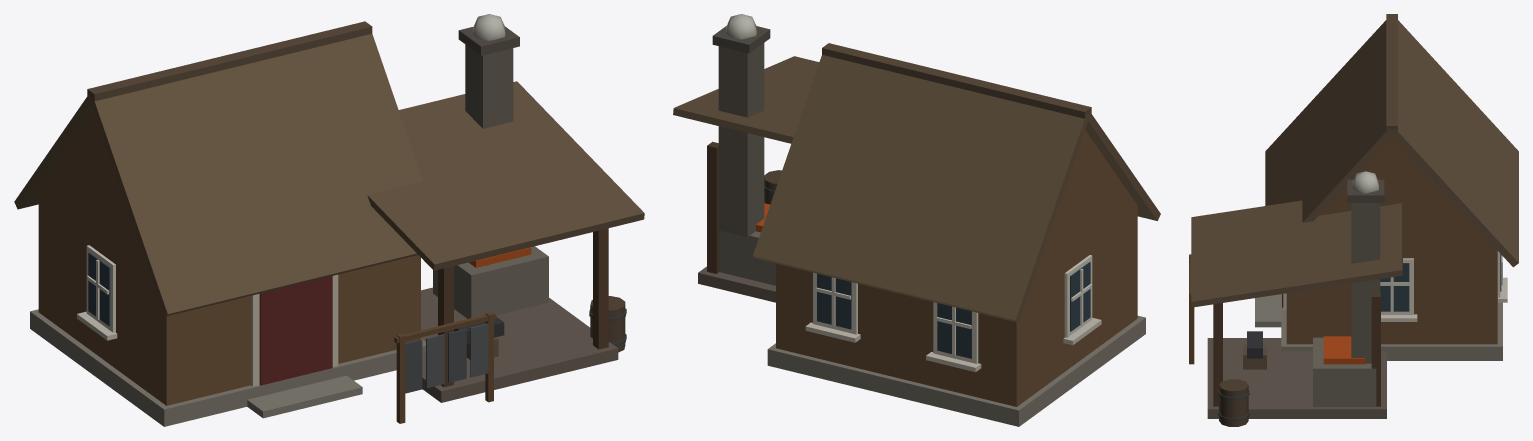
The model's file is procedural_smith@3.glb.
3 renders of one model, left to right at view 1: azimuth 30°, elevation 25°; view 2: azimuth 150°, elevation 25°; view 3: azimuth 270°, elevation 25°, orthographic. The views are drawn at different scales.
Parts seen in each view (by area): view 1: part_0, part_4; view 2: part_0, part_4; view 3: part_0, part_4.
Part boxes in pixels (x1=…): part_0: x1=14, y1=21, x2=644, y2=426; part_4: x1=473, y1=14, x2=505, y2=40; part_0: x1=673, y1=26, x2=1160, y2=426; part_4: x1=726, y1=14, x2=756, y2=39; part_0: x1=1189, y1=14, x2=1518, y2=426; part_4: x1=1352, y1=171, x2=1378, y2=193.
Bounding box in the file's own units: 7.9 × 4.97 × 6.25.
